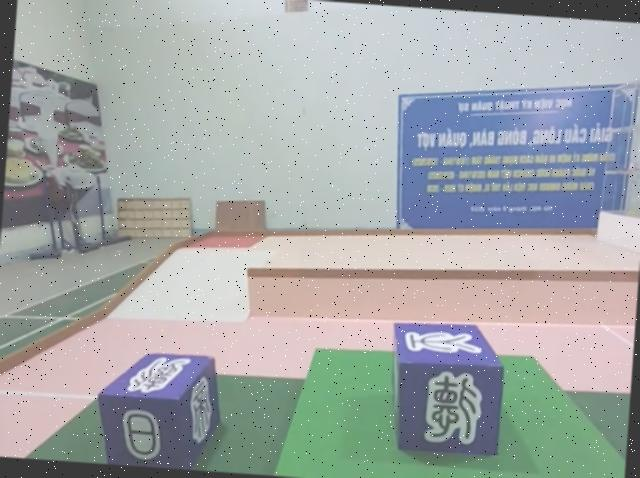R2 Fake Blue: (380, 317, 505, 459), (92, 349, 224, 471)
